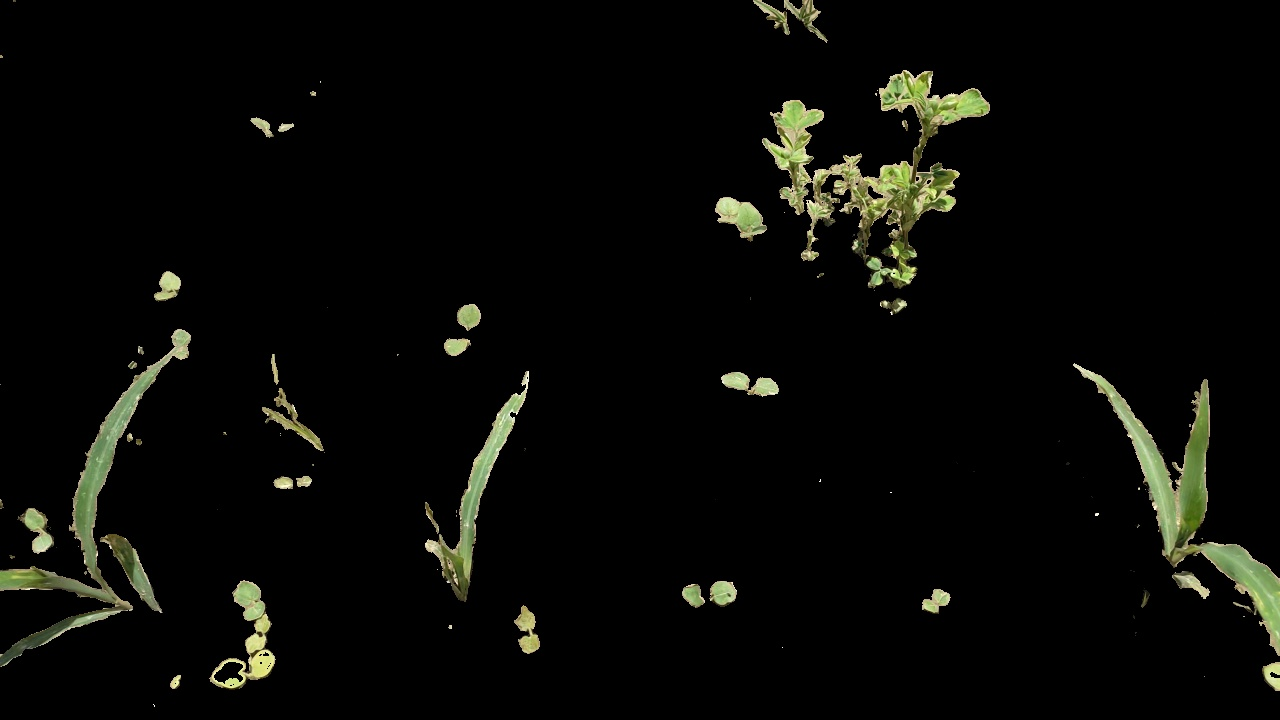crop: (1073, 362, 1280, 656), (64, 351, 169, 626), (420, 370, 536, 604)
weed: (767, 75, 984, 282), (211, 577, 276, 689), (701, 178, 764, 244), (437, 295, 487, 353), (678, 577, 744, 612), (710, 369, 787, 398), (19, 508, 56, 556), (147, 267, 190, 302), (262, 471, 322, 496), (514, 607, 544, 656), (250, 118, 310, 141), (921, 579, 950, 623)
